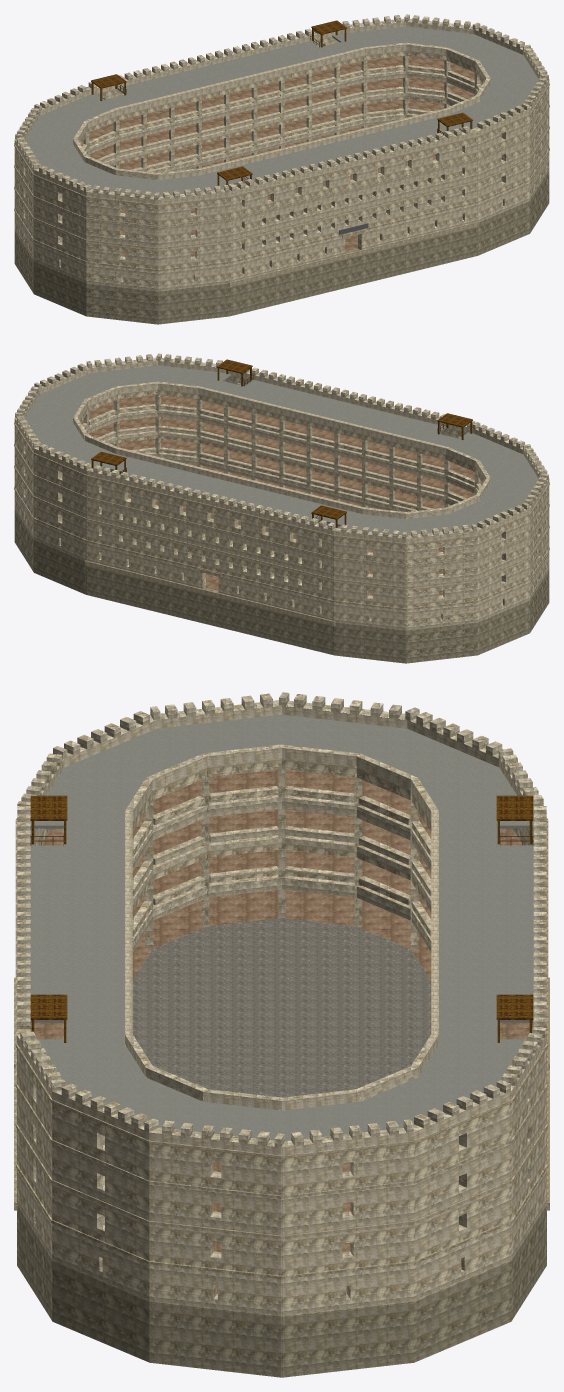
File: bw-keep.gaps-v1.lod1.glb
3 renders of one model, top to bottom at view 1: azimuth 30°, elevation 25°; view 2: azimuth 150°, elevation 25°; view 3: azimuth 270°, elevation 25°, orthographic. The views are drawn at different scales.
Parts seen in each view (by area): view 1: bw-keep; view 2: bw-keep; view 3: bw-keep.
Boxes of the visible parts, x1,y1,x2,y2 form: bw-keep: (14,14,549,324); bw-keep: (14,353,549,663); bw-keep: (14,692,549,1377).
Size of the model in its own units: 110 by 28.35 by 55.7.
7 materials, 6 textured.
